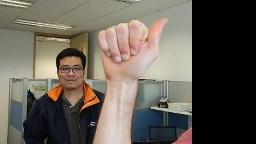Pugno: (93, 16, 170, 82)
